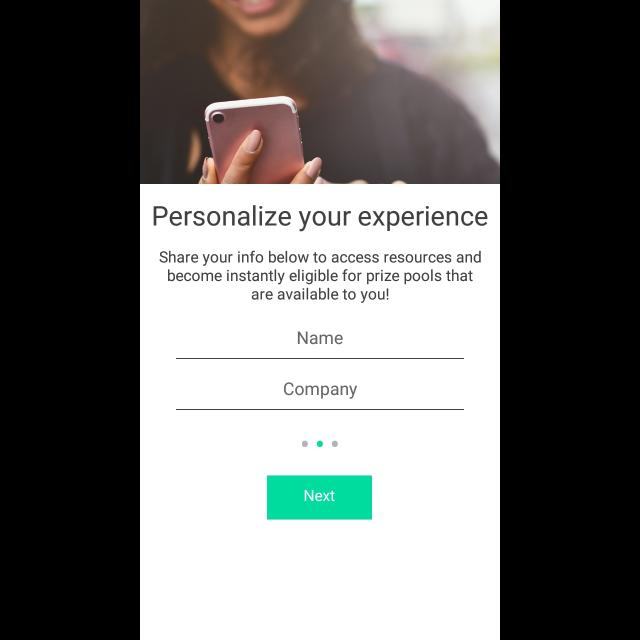image: (140, 0, 500, 184)
input: (176, 382, 464, 410), (176, 332, 464, 360)
pageindicator: (302, 440, 338, 448)
text: (160, 250, 480, 304), (153, 204, 487, 232), (284, 382, 358, 400), (297, 332, 343, 344)
textbutton: (268, 476, 372, 520)
